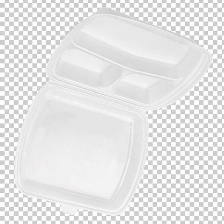foam_box: (11, 4, 215, 220)
